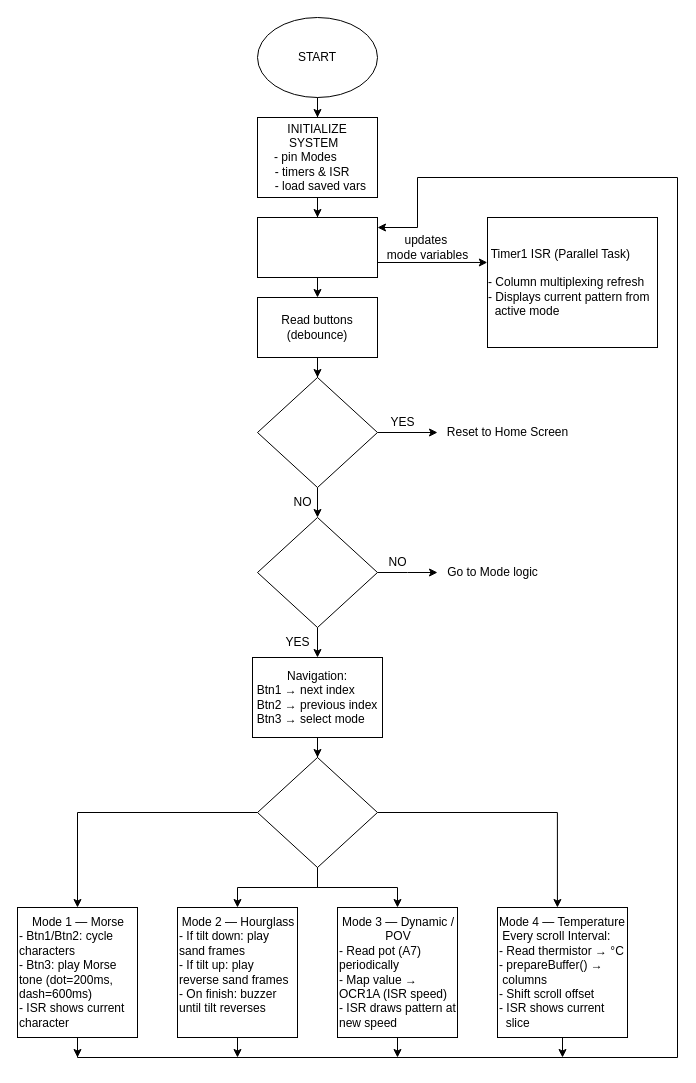
Some shapes in this 696 by 1083 pixel diagram are drawn without their labels. The shapes that lost their labels are listed below. From the top down, each one's centre as x and y in pixels, then its label:
point (317, 247): MAIN LOOP
point (317, 432): Long press Btn1 (5s)?
point (317, 572): On Home screen?
point (317, 812): Which mode selected?
